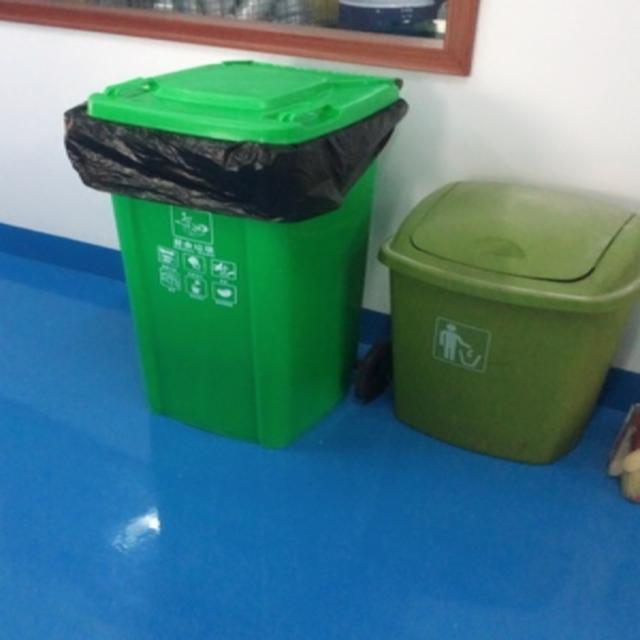ash bin: (83, 59, 401, 450), (377, 174, 638, 466)
